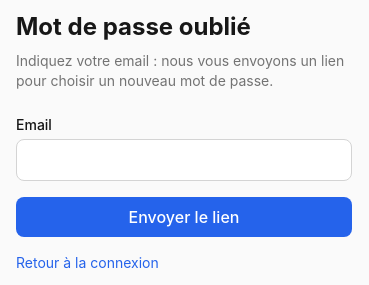
Test: ForgotPasswordPage › posts the email and confirms without revealing whether it exists
Type "k@acme.dz" into the field labelled "Email". click: (184, 160)
box: [16,139,352,181]
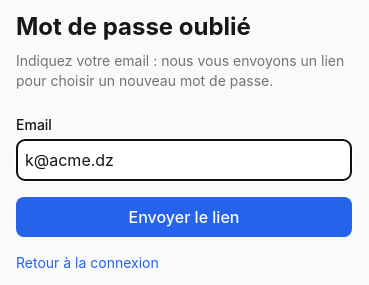
Click the button "Envoyer le lien". click: (184, 217)
box: [16,197,352,237]
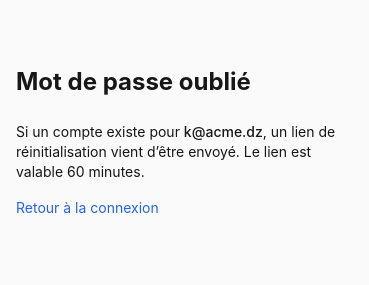
Expected: the message shows "Si un compte existe", [16,123,184,140]
